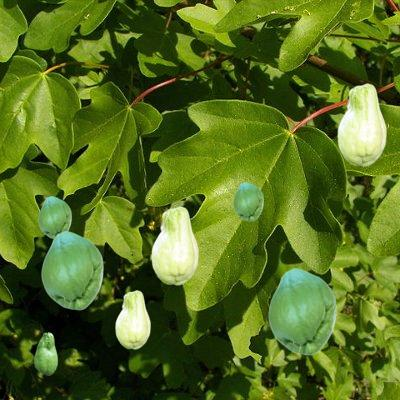sayote: (268, 268, 335, 354), (41, 231, 102, 309), (337, 83, 385, 165), (151, 206, 197, 284), (115, 290, 149, 348), (38, 196, 70, 238), (233, 182, 262, 220), (34, 332, 56, 374)
